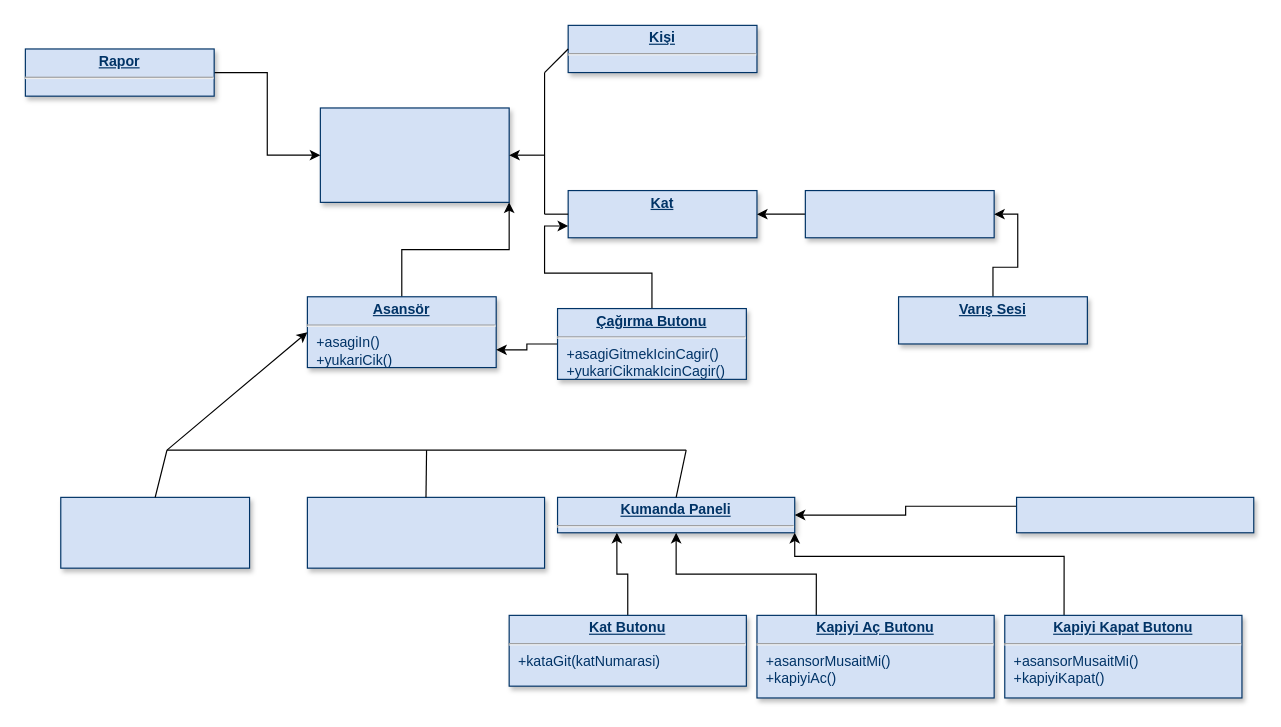
This 1281x727 diagram has some shape labels left out. The centre of each missing label's shape, as x and y in pixels:
"Acil Durum Butonu" goes at (1136,516).
"Asansör Kapisi +kapiyiAc() +kapiyiKapat()" goes at (156,533).
"Kat Işığı +katNumarasiniGoster(katNumarasi)" goes at (426,533).
"Sigorta Merkezi +kisiKapasitesi +katNumarasi" goes at (415,156).
"Şaft" goes at (900,215).
